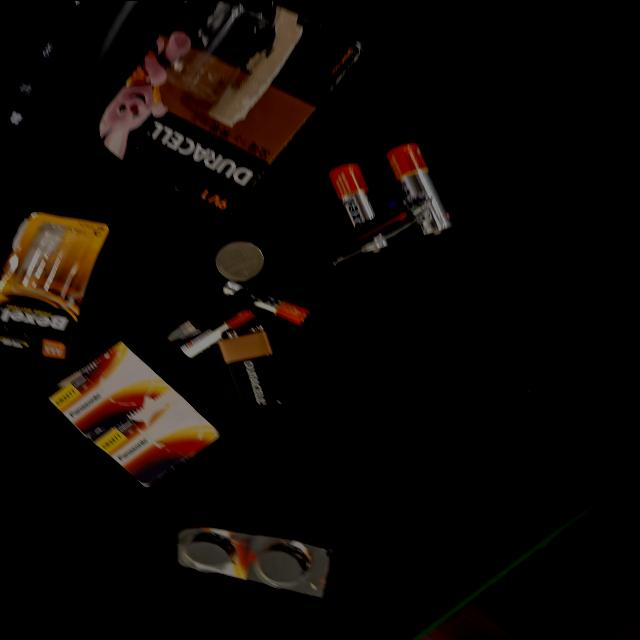9V: (308, 323, 421, 382)
AA: (516, 406, 640, 454), (538, 450, 640, 503)
AAA: (377, 296, 443, 353), (420, 350, 461, 393)
COIN: (477, 322, 535, 359)
